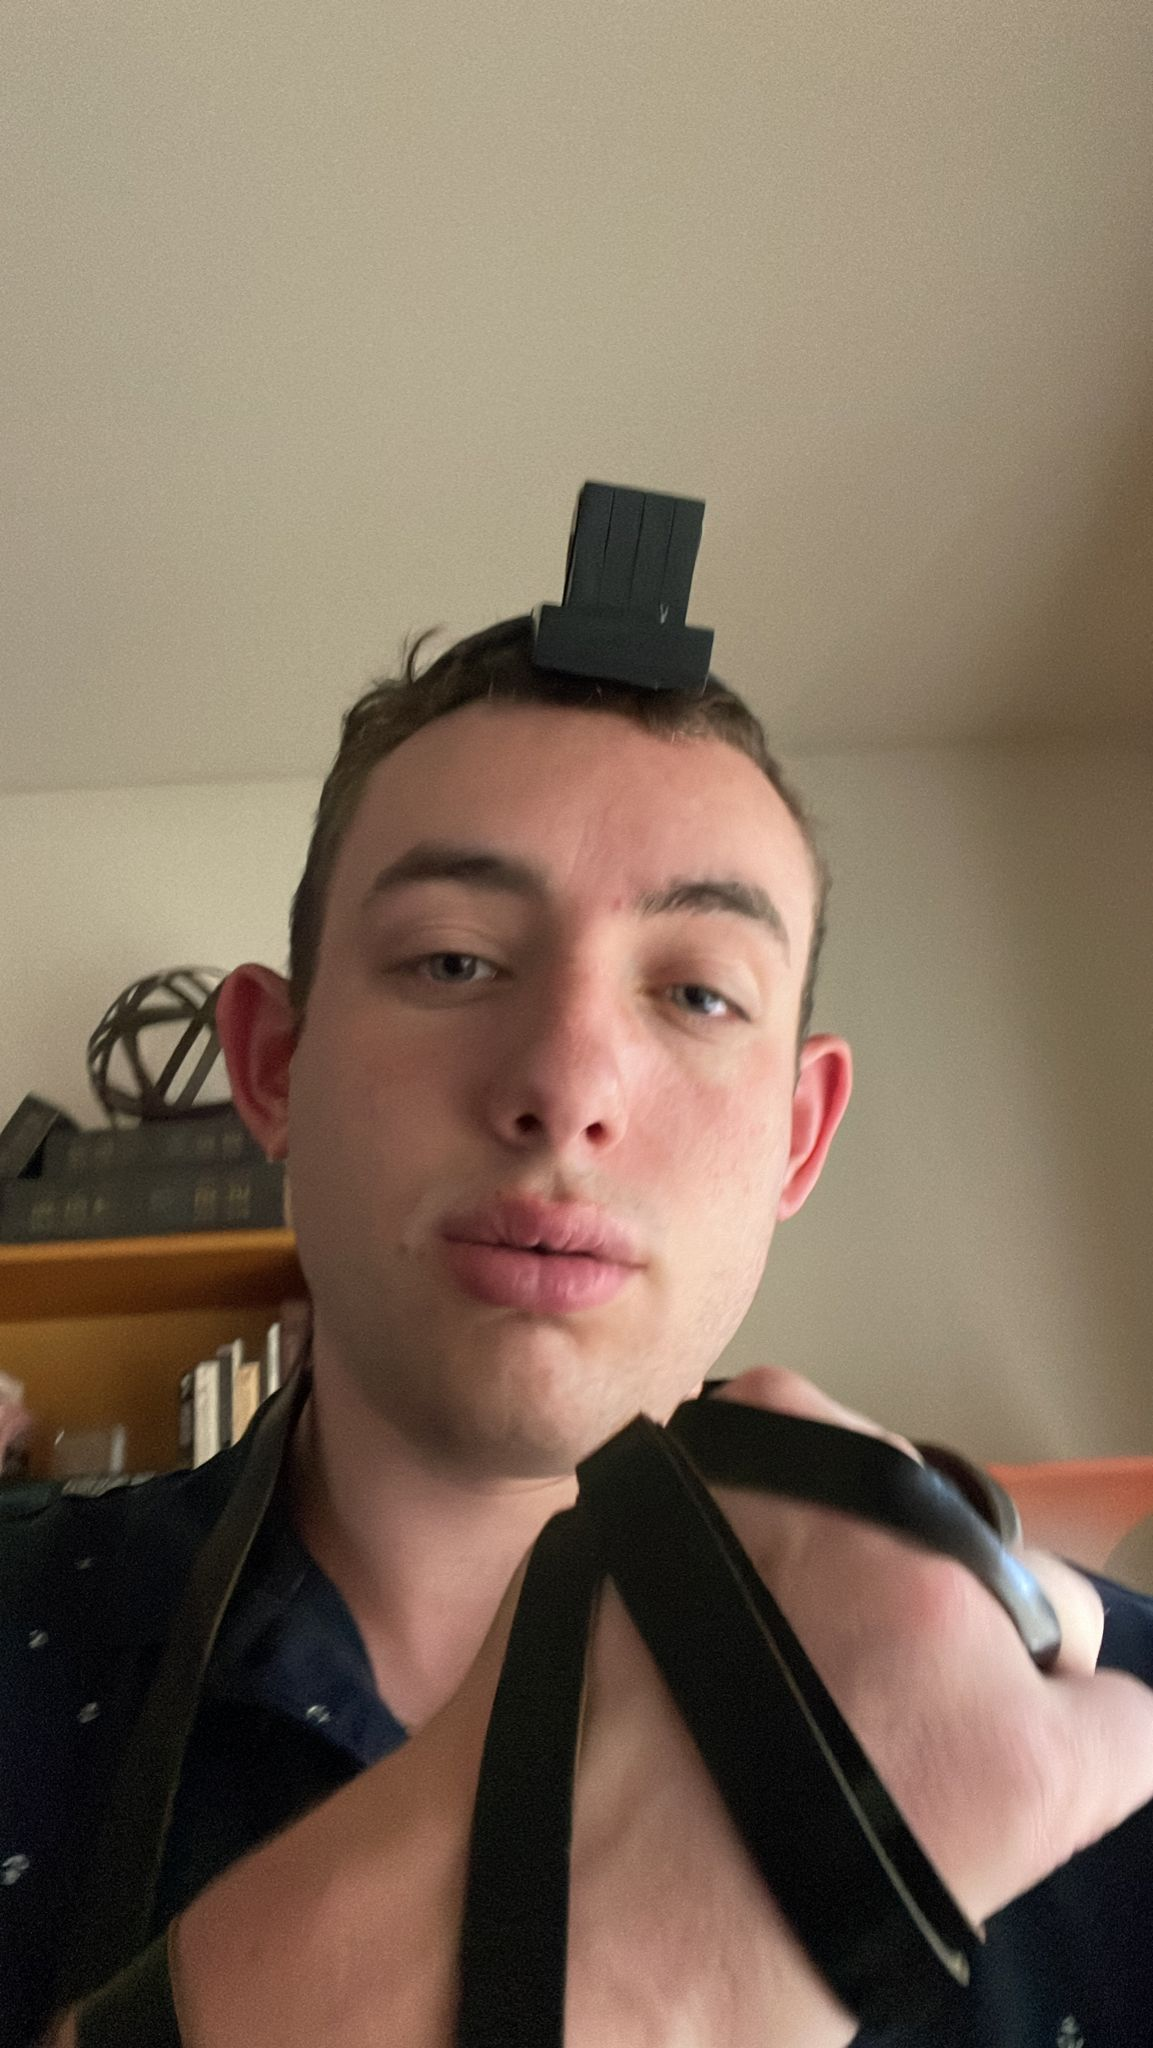tefillin: (541, 482, 716, 693)
